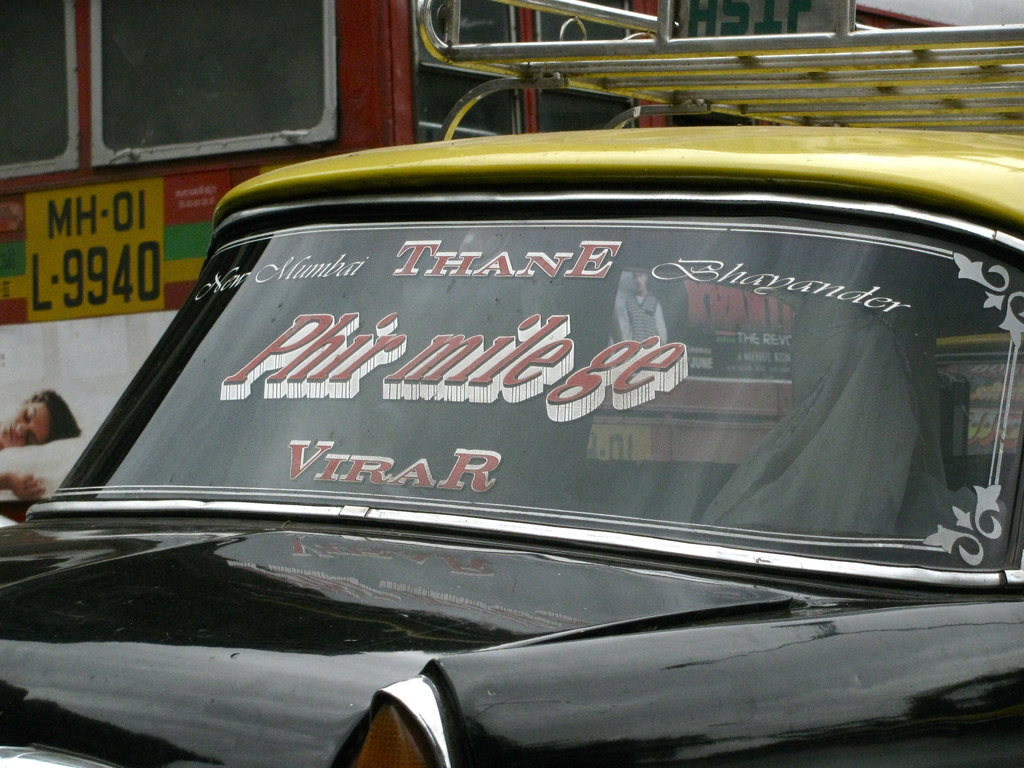Car: (15, 101, 1024, 741)
